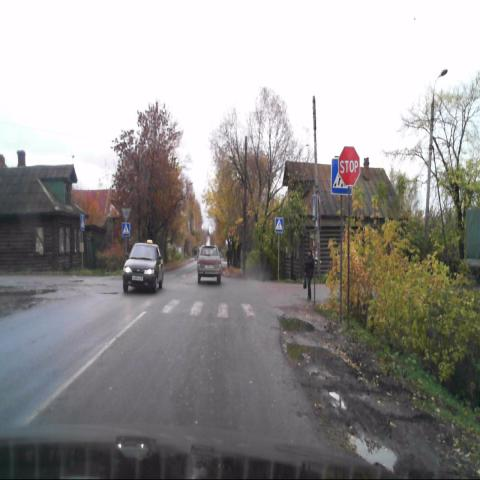2_5: (338, 145, 360, 187)
